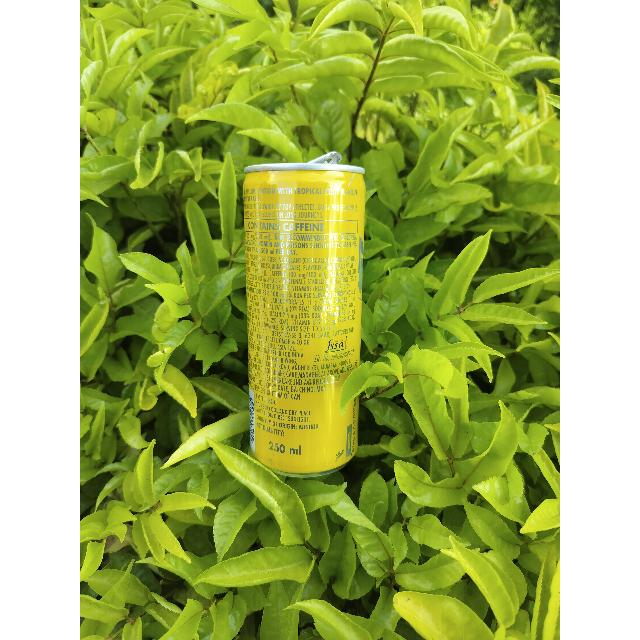Redbull Yellow Edition: (245, 164, 359, 472)
